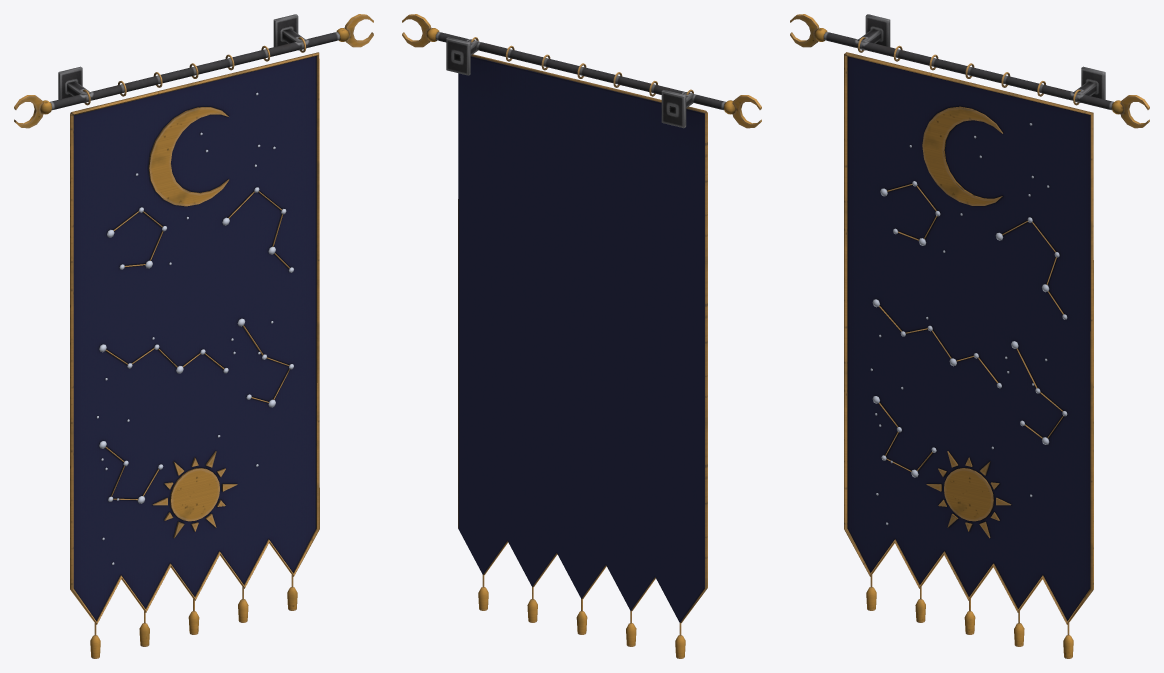
File: StarChartBanner.fbx
3 renders of one model, left to right at view 1: azimuth 30°, elevation 25°; view 2: azimuth 150°, elevation 25°; view 3: azimuth 330°, elevation 25°, orthographic.
Parts seen in each view (by area): view 1: StarChartBanner_Main, StarChartBanner_Glow; view 2: StarChartBanner_Main; view 3: StarChartBanner_Main, StarChartBanner_Glow.
Part boxes in pixels (bbox=[...]): StarChartBanner_Main: bbox=[14, 14, 373, 658]; StarChartBanner_Glow: bbox=[96, 92, 293, 564]; StarChartBanner_Main: bbox=[402, 14, 761, 658]; StarChartBanner_Main: bbox=[790, 14, 1149, 658]; StarChartBanner_Glow: bbox=[870, 123, 1067, 524].
Bounding box in the file's own units: 466 × 720 × 47.04.
